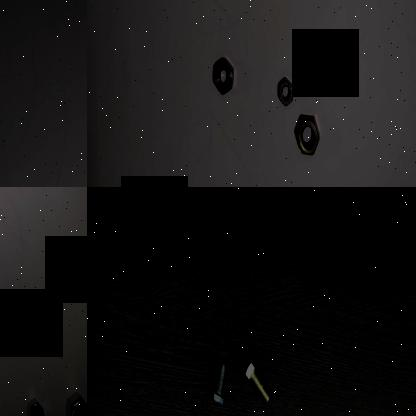Bolts: (240, 352, 274, 412), (207, 358, 229, 410)
NUTS: (292, 112, 322, 160), (206, 54, 234, 96), (274, 73, 294, 109), (66, 392, 87, 416), (24, 396, 46, 416)
